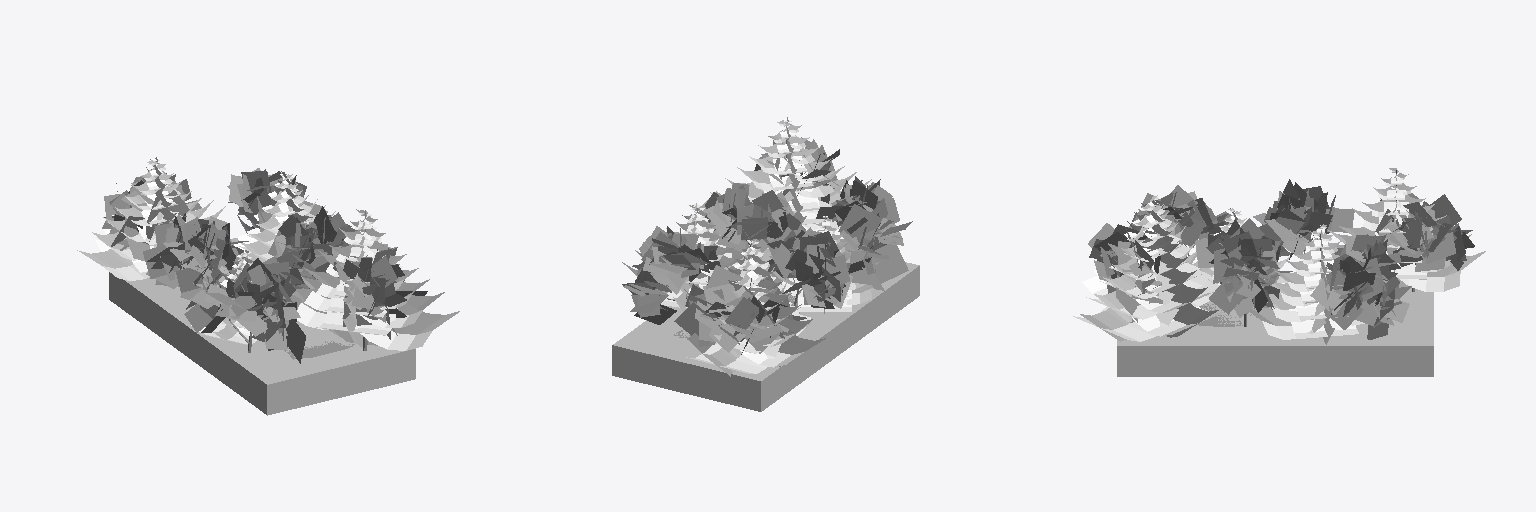
File: cf_ta_forest3.obj
3 views of the same model, side by side, from view 1: azimuth 30°, elevation 25°; view 2: azimuth 150°, elevation 25°; view 3: azimuth 270°, elevation 25° (orthographic).
Parts seen in each view (by area): view 1: field_Cube.001, x1.002_x1.003, t3.002, t2.002, x1.001, t6, t5, x1.003_x1.004, t1, t4, x1.000_x1.002; view 2: field_Cube.001, t1, t3.002, t4, x1.002_x1.003, x1.001, t2.002, t5, x1.003_x1.004, x1.000_x1.002, t6; view 3: field_Cube.001, x1.002_x1.003, t4, t5, x1.003_x1.004, t1, t2.002, x1.001, t6, t3.002.
Boxes of the visible parts, box(x1,y1,x2,y2) form: field_Cube.001: box(109, 238, 415, 415); x1.002_x1.003: box(293, 209, 459, 350); t3.002: box(184, 256, 305, 363); t2.002: box(143, 214, 248, 309); x1.001: box(77, 157, 225, 281); t6: box(333, 243, 427, 350); t5: box(268, 206, 357, 288); x1.003_x1.004: box(234, 171, 345, 294); t1: box(102, 171, 201, 260); t4: box(227, 168, 327, 231); x1.000_x1.002: box(191, 250, 256, 344); field_Cube.001: box(612, 252, 919, 411); t1: box(674, 265, 806, 354); t3.002: box(816, 176, 912, 290); t4: box(622, 226, 720, 324); x1.002_x1.003: box(694, 117, 871, 252); x1.001: box(684, 239, 825, 376); t2.002: box(767, 227, 852, 308); t5: box(700, 183, 801, 258); x1.003_x1.004: box(622, 203, 744, 311); x1.000_x1.002: box(768, 216, 878, 313); t6: box(754, 137, 839, 203); field_Cube.001: box(1117, 276, 1433, 376); x1.002_x1.003: box(1073, 195, 1223, 341); t4: box(1310, 234, 1411, 339); t5: box(1195, 218, 1292, 326); x1.003_x1.004: box(1249, 224, 1375, 344); t1: box(1375, 193, 1474, 291); t2.002: box(1253, 179, 1354, 259); x1.001: box(1314, 168, 1485, 291); t6: box(1088, 223, 1173, 322); t3.002: box(1131, 185, 1259, 256).
Bounding box in the file's own units: 17.67 × 11.77 × 26.82.